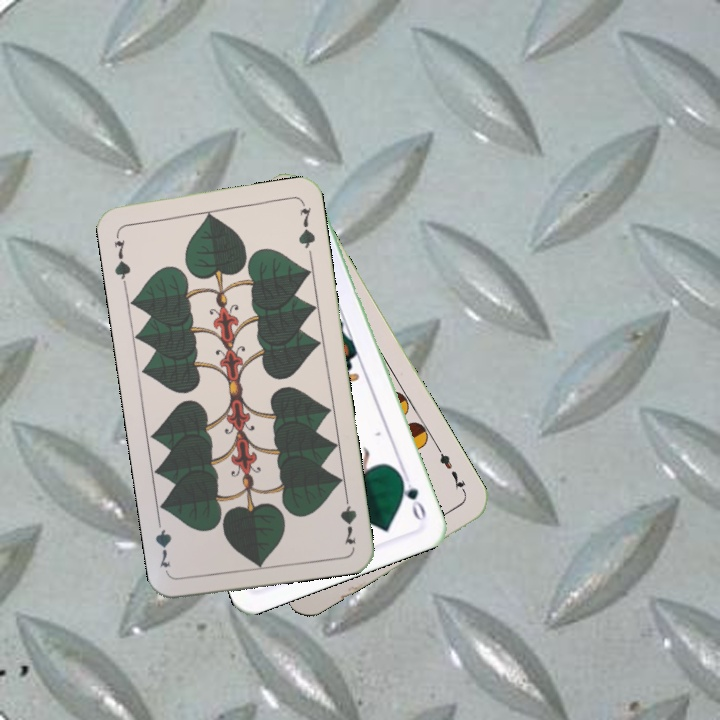E7: (433, 443, 469, 497)
G7: (336, 488, 360, 547), (110, 228, 133, 288)
GO: (395, 467, 429, 524)
